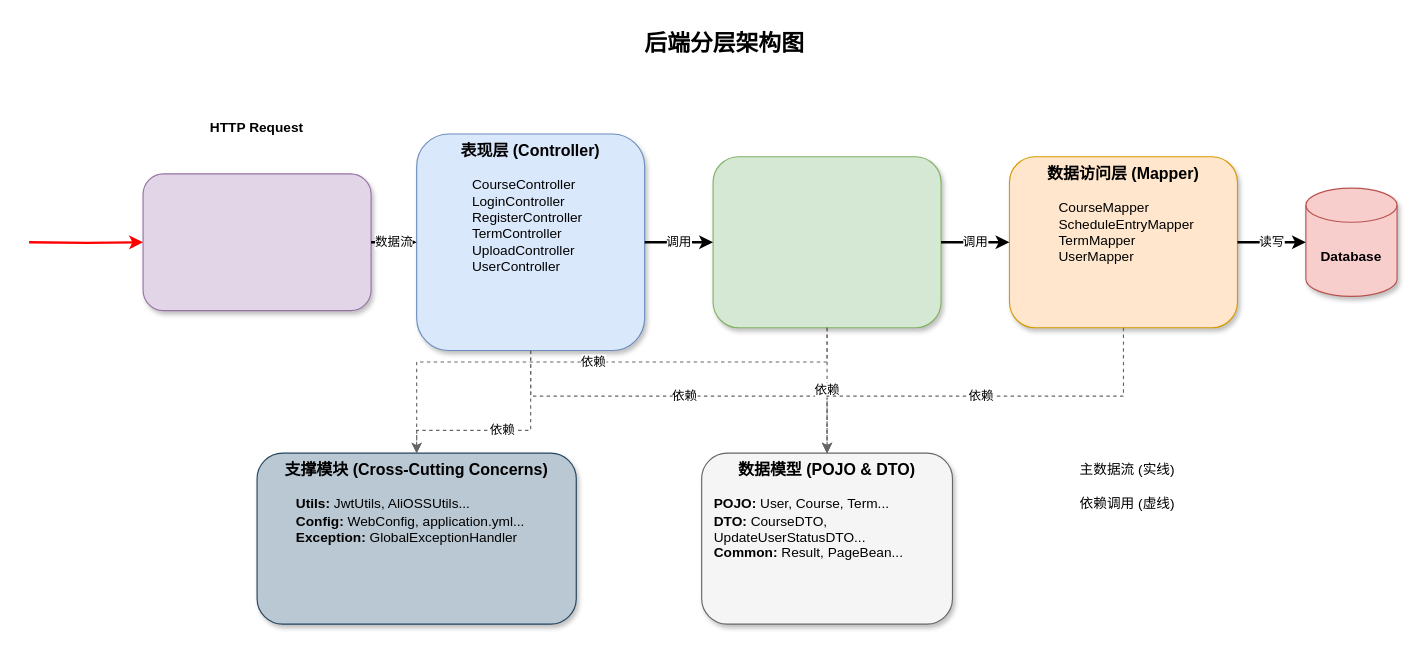
Image size: 1424x652. Some labels were removed from this diagram. Each missing label, with the centre of its shape:
"核心业务层 (Service Layer) CourseService ExcelImportService TermService UserService" belongs at pixel 827 243.
"过滤器/拦截器 LoginCheckInterceptor LoginCheckFilter" belongs at pixel 257 243.
